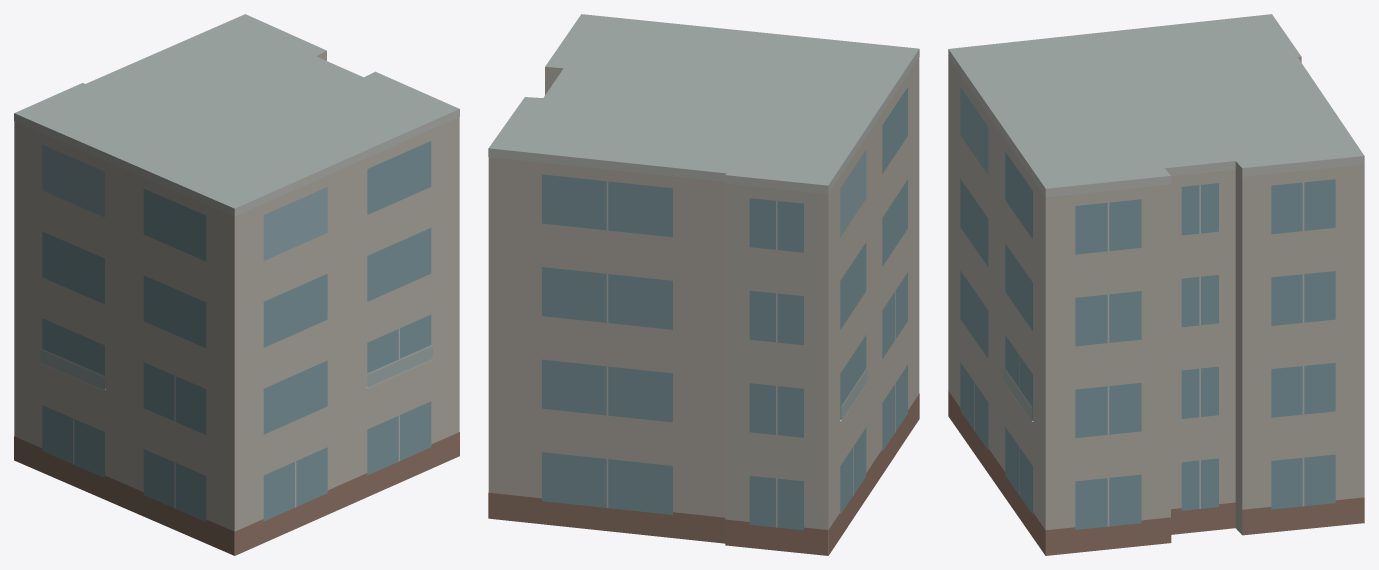
The model's file is survey-upis-32964689.glb.
3 renders of one model, left to right at view 1: azimuth 30°, elevation 25°; view 2: azimuth 150°, elevation 25°; view 3: azimuth 270°, elevation 25°, orthographic. The views are drawn at different scales.
Parts seen in each view (by area): view 1: survey-upis-32964689.tmp; view 2: survey-upis-32964689.tmp; view 3: survey-upis-32964689.tmp.
Part boxes in pixels (x1=…): survey-upis-32964689.tmp: x1=14, y1=14, x2=459, y2=555; survey-upis-32964689.tmp: x1=488, y1=14, x2=919, y2=555; survey-upis-32964689.tmp: x1=948, y1=14, x2=1364, y2=555.
Size of the model in its own units: 10.73 by 10.5 by 10.8.
